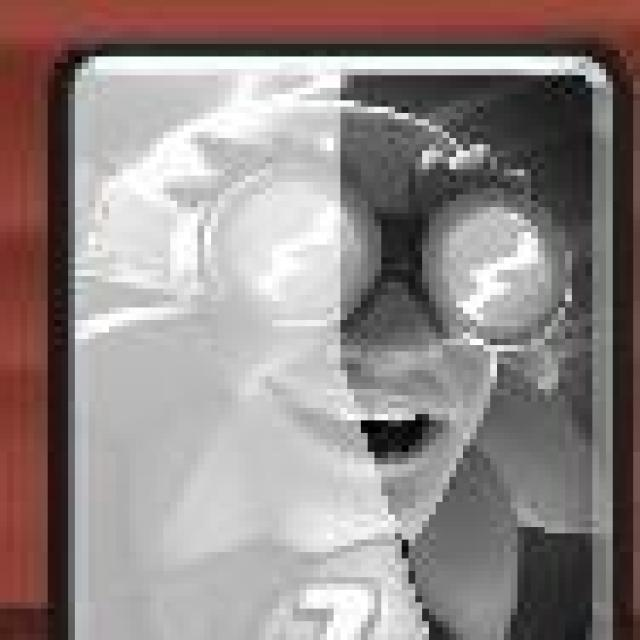Electro_Giant: (42, 39, 635, 640)
